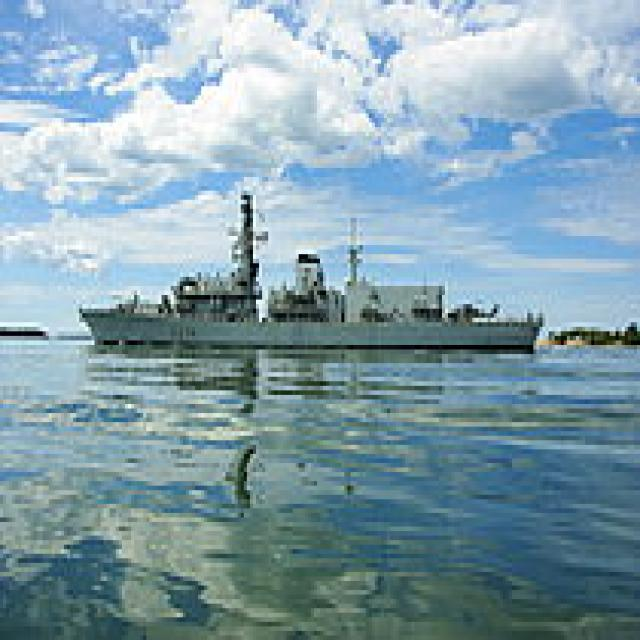Warship: (70, 177, 543, 354)
